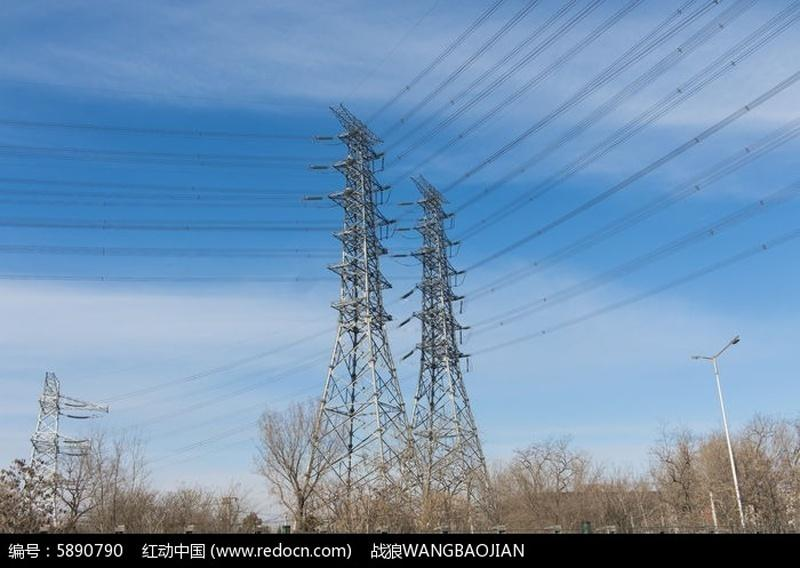power_tower: (297, 98, 424, 487), (387, 139, 502, 492)
